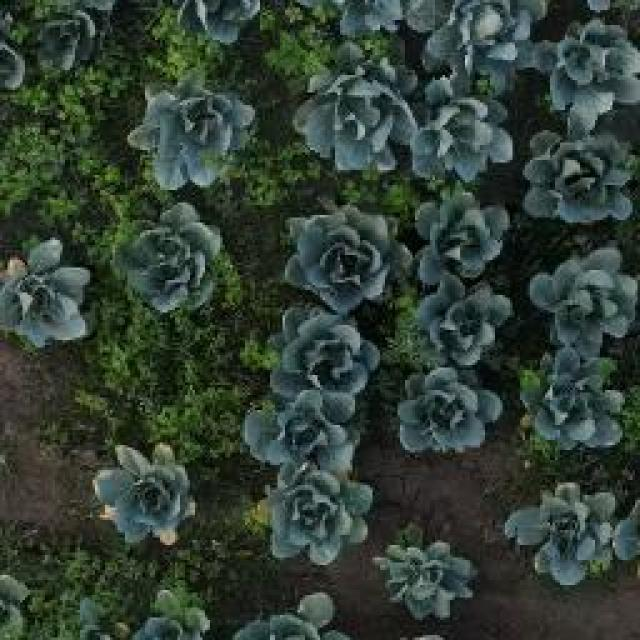cabbage: (300, 44, 419, 170), (127, 84, 260, 192), (114, 201, 230, 313), (258, 450, 368, 568), (282, 205, 412, 304), (504, 478, 621, 584), (535, 7, 640, 125), (527, 240, 640, 347), (242, 385, 368, 474), (524, 127, 640, 223), (93, 442, 196, 550), (524, 343, 623, 452), (411, 186, 522, 282), (265, 307, 382, 396), (0, 237, 90, 350), (414, 84, 520, 178), (423, 0, 545, 80), (402, 276, 513, 361), (401, 364, 505, 454), (381, 538, 474, 620), (20, 5, 105, 76), (167, 0, 261, 51), (0, 566, 33, 640)
